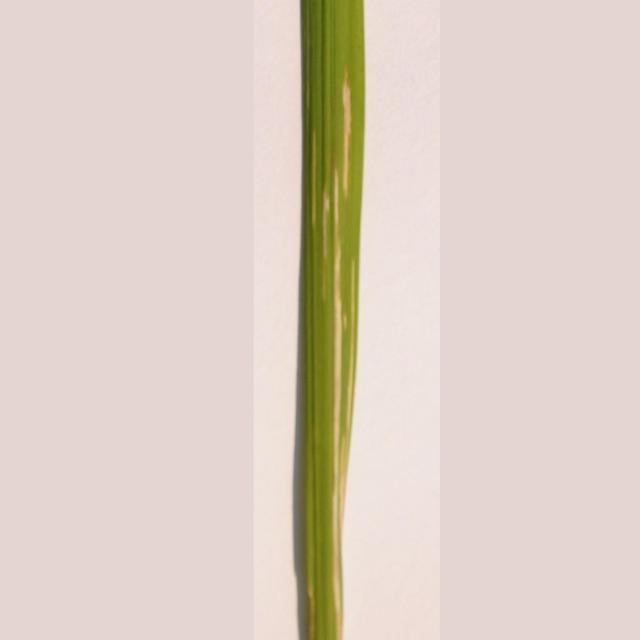leaf blight: (307, 70, 356, 640)
